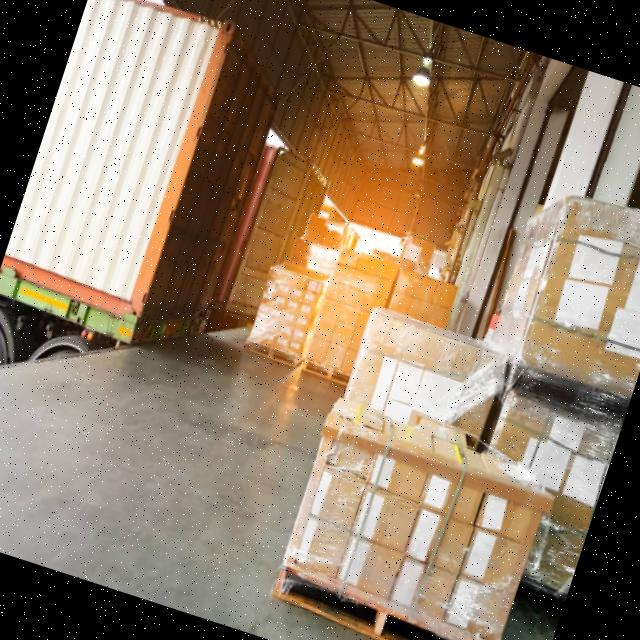Wooden-Pallets: (262, 550, 507, 640), (237, 330, 302, 380), (298, 351, 357, 402)
